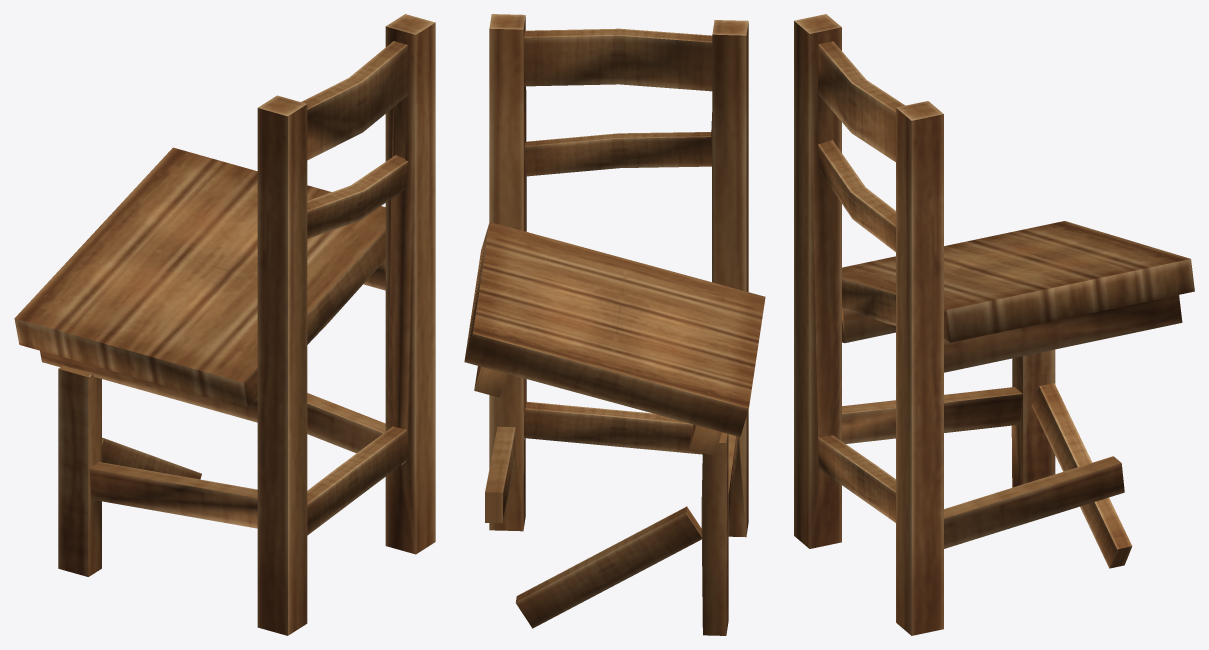
The model's file is c_SWGchair04b04.glb.
3 renders of one model, left to right at view 1: azimuth 30°, elevation 25°; view 2: azimuth 150°, elevation 25°; view 3: azimuth 270°, elevation 25°, orthographic. The views are drawn at different scales.
Visible parts, largest first — view 1: c_SWGchair04b04; view 2: c_SWGchair04b04; view 3: c_SWGchair04b04.
Part boxes in pixels (bbox=[...]): c_SWGchair04b04: bbox=[14, 14, 435, 635]; c_SWGchair04b04: bbox=[464, 14, 765, 635]; c_SWGchair04b04: bbox=[794, 14, 1194, 635].
Size of the model in its own units: 0.6826 by 0.9896 by 0.6954.
1 material, 1 textured.
